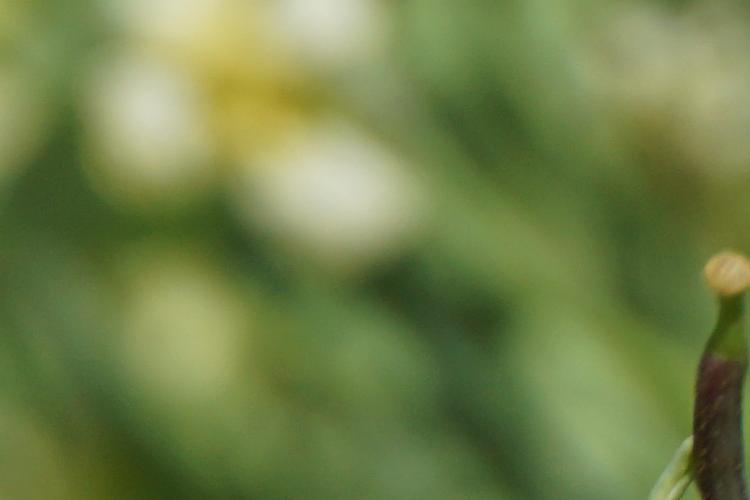pod: (678, 249, 750, 499)
